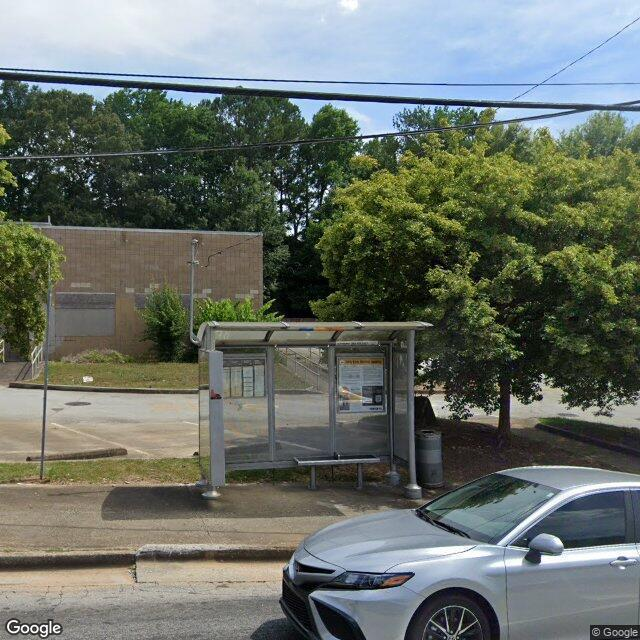seating: (294, 452, 384, 492)
shelter: (200, 320, 433, 498)
trash_can: (418, 431, 443, 492)
